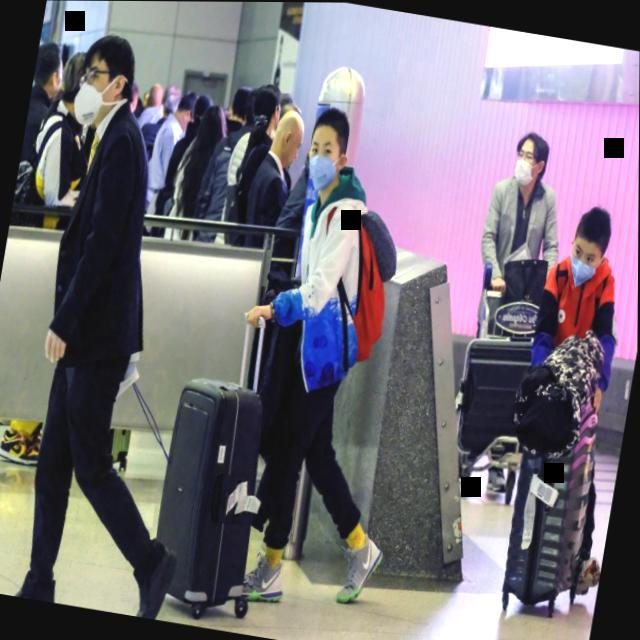Mask: (549, 192, 633, 295), (65, 24, 142, 135), (299, 103, 362, 197), (503, 119, 562, 196)
NO-Mask: (265, 106, 311, 177)
